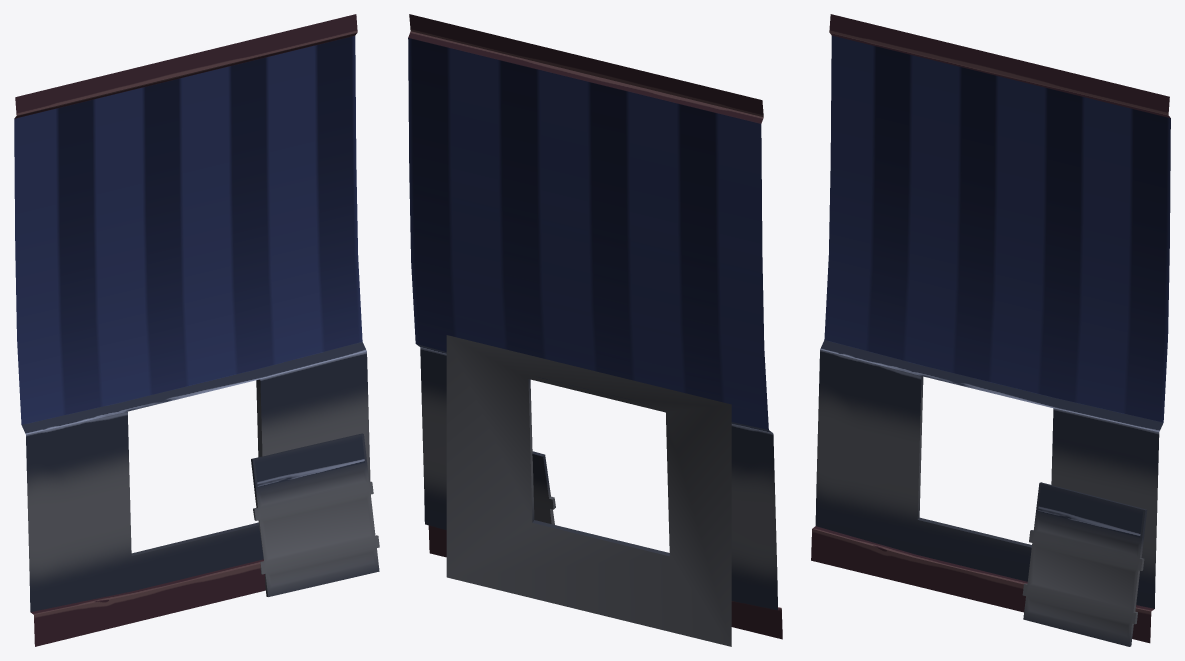
Rendered from Wall2x3Vent.fbx.
The picture shows the model from 3 angles, left to right: view 1: azimuth 30°, elevation 25°; view 2: azimuth 150°, elevation 25°; view 3: azimuth 330°, elevation 25°; orthographic projection. The views are drawn at different scales.
Visible parts, largest first — view 1: Wall_2x3Vent; view 2: Wall_2x3Vent; view 3: Wall_2x3Vent.
Part boxes in pixels (x1=…): Wall_2x3Vent: x1=14, y1=14, x2=379, y2=646; Wall_2x3Vent: x1=408, y1=14, x2=782, y2=646; Wall_2x3Vent: x1=811, y1=14, x2=1170, y2=646.
Size of the model in its own units: 200 by 300 by 33.5.
